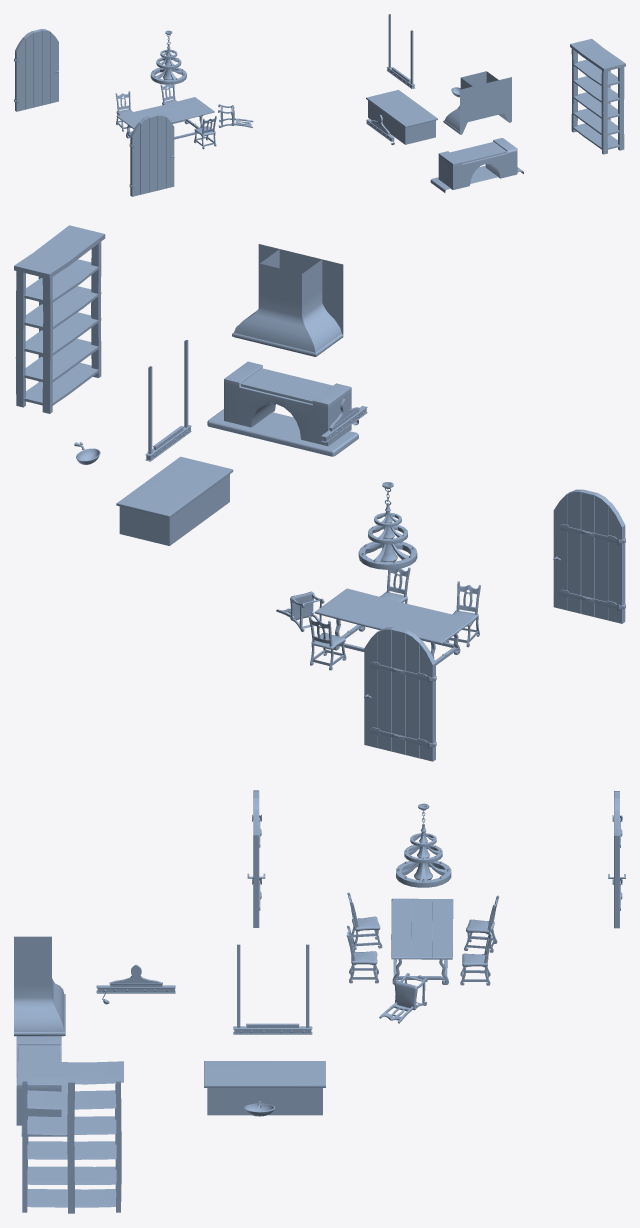
File: SM_kitchen.fbx
3 renders of one model, top to bottom at view 1: azimuth 30°, elevation 25°; view 2: azimuth 150°, elevation 25°; view 3: azimuth 270°, elevation 25°, orthographic. The views are drawn at different scales.
Visible parts, largest first — view 1: pCube21, polySurface723, Dining_table_v01:Dining_table_v01:polySurface147, polySurface147, pCube519, Dining_table_v01:polySurface1, polySurface1, pCube518, Agnocio_phone:polySurface2, pCube522, Dining_table_v01:polySurface2, Agnocio_phone:polySurface4 (+1 smaller); view 2: pCube21, polySurface723, Dining_table_v01:Dining_table_v01:polySurface147, polySurface147, pCube519, Dining_table_v01:polySurface1, pCube518, polySurface1, Agnocio_phone:polySurface3, Dining_table_v01:polySurface2, Agnocio_phone:polySurface1, pCube522 (+1 smaller); view 3: polySurface723, pCube21, pCube519, Dining_table_v01:polySurface1, polySurface1, pCube523, Dining_table_v01:Dining_table_v01:polySurface147, Dining_table_v01:polySurface2, polySurface147, pCube61, Agnocio_phone:polySurface2, Agnocio_phone:polySurface3 (+3 smaller).
Part boxes in pixels (left/top/right/bottom): pCube21: left=438, top=71, right=517, bottom=189; polySurface723: left=570, top=38, right=625, bottom=154; Dining_table_v01:Dining_table_v01:polySurface147: left=129, top=114, right=174, bottom=196; polySurface147: left=14, top=29, right=58, bottom=111; pCube519: left=366, top=90, right=437, bottom=144; Dining_table_v01:polySurface1: left=116, top=97, right=214, bottom=139; polySurface1: left=150, top=30, right=186, bottom=84; pCube518: left=430, top=165, right=523, bottom=192; Agnocio_phone:polySurface2: left=194, top=116, right=216, bottom=149; pCube522: left=388, top=14, right=413, bottom=84; Dining_table_v01:polySurface2: left=218, top=104, right=253, bottom=128; Agnocio_phone:polySurface4: left=115, top=91, right=132, bottom=131; pCube21: left=224, top=244, right=351, bottom=446; polySurface723: left=14, top=225, right=105, bottom=413; Dining_table_v01:Dining_table_v01:polySurface147: left=553, top=489, right=625, bottom=623; polySurface147: left=364, top=627, right=436, bottom=761; pCube519: left=116, top=456, right=233, bottom=545; Dining_table_v01:polySurface1: left=314, top=588, right=473, bottom=665; pCube518: left=207, top=409, right=358, bottom=456; polySurface1: left=358, top=482, right=417, bottom=569; Agnocio_phone:polySurface3: left=308, top=616, right=346, bottom=670; Dining_table_v01:polySurface2: left=276, top=591, right=324, bottom=631; Agnocio_phone:polySurface1: left=446, top=581, right=480, bottom=647; pCube522: left=148, top=340, right=188, bottom=453; polySurface723: left=18, top=1061, right=123, bottom=1213; pCube21: left=14, top=936, right=65, bottom=1125; pCube519: left=204, top=1061, right=325, bottom=1115; Dining_table_v01:polySurface1: left=391, top=898, right=453, bottom=984; polySurface1: left=396, top=803, right=451, bottom=887; pCube523: left=96, top=964, right=175, bottom=1004; Dining_table_v01:Dining_table_v01:polySurface147: left=247, top=790, right=265, bottom=927; Dining_table_v01:polySurface2: left=379, top=973, right=427, bottom=1023; polySurface147: left=608, top=791, right=625, bottom=928; pCube61: left=233, top=1023, right=312, bottom=1034; Agnocio_phone:polySurface2: left=346, top=925, right=378, bottom=983; Agnocio_phone:polySurface3: left=460, top=928, right=492, bottom=985.
Size of the model in its own units: 1499 by 352 by 1218.
